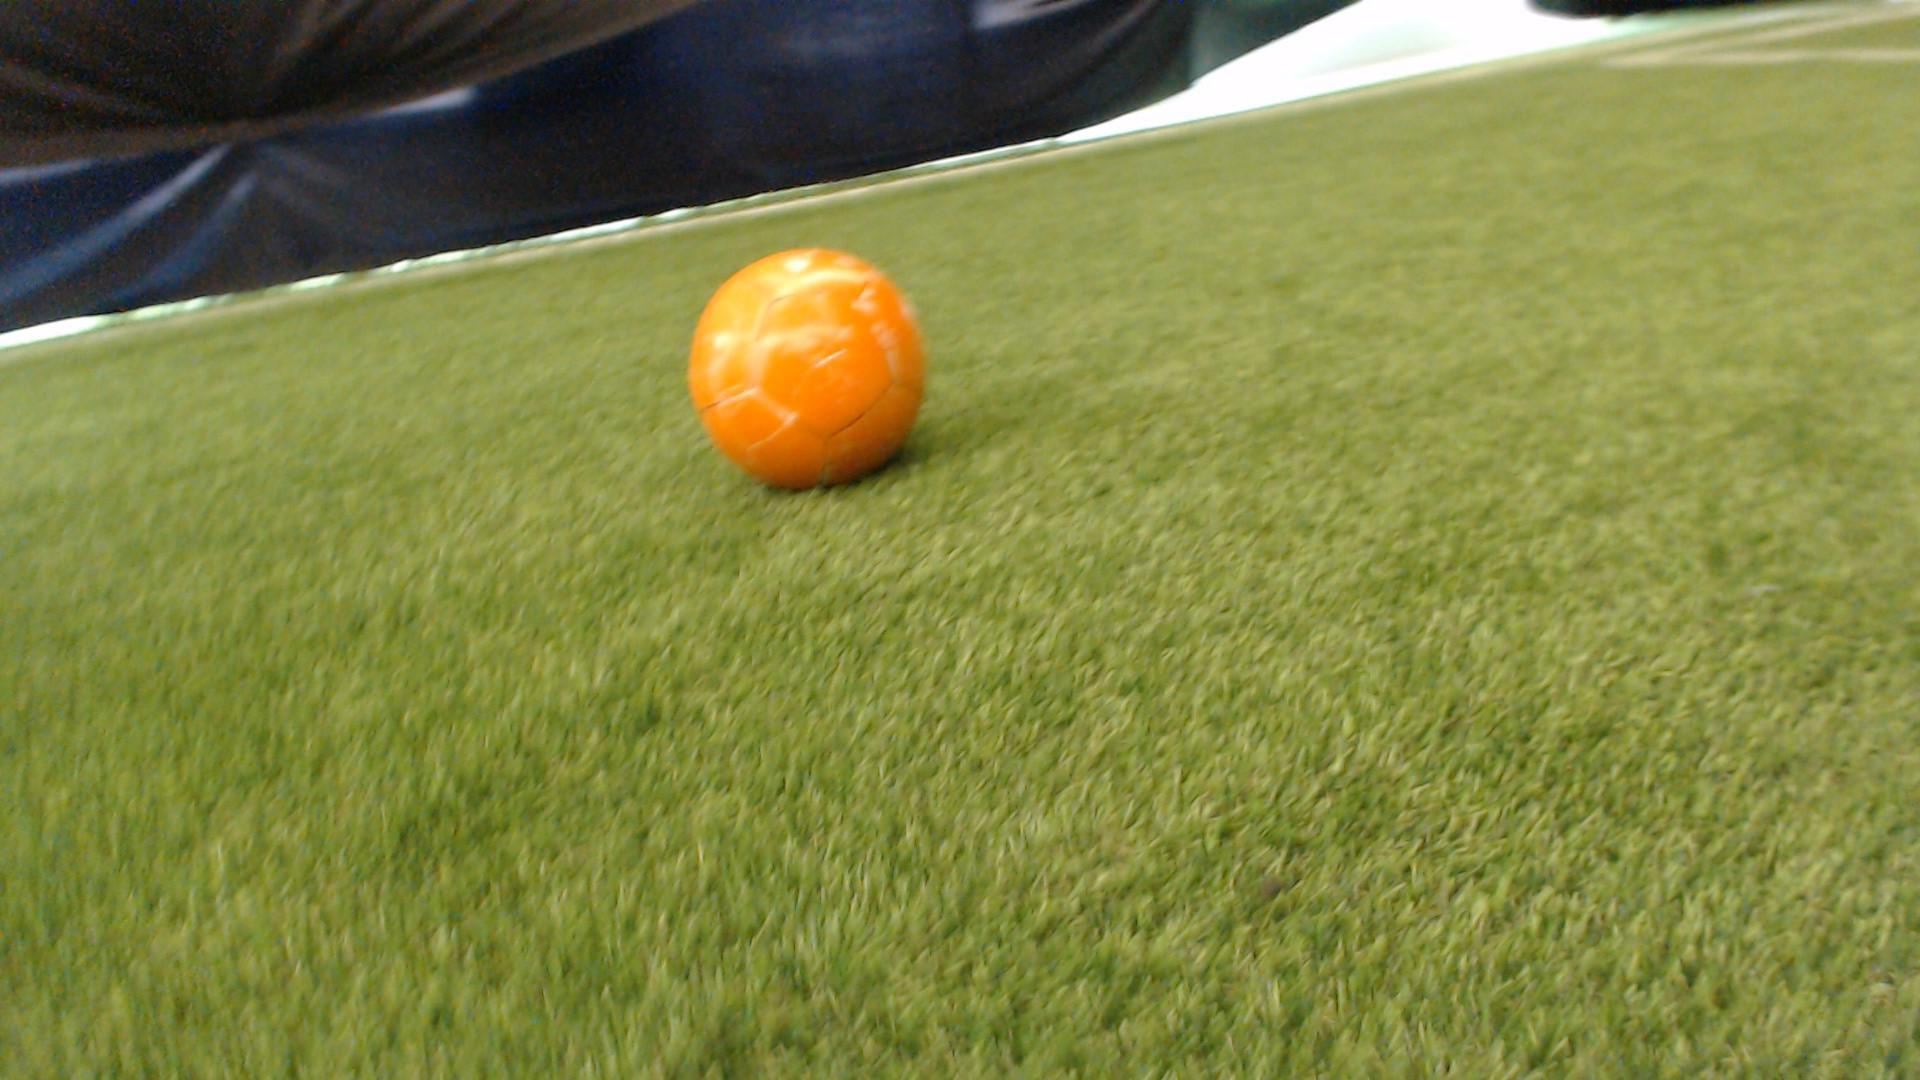bola: (669, 236, 975, 504)
